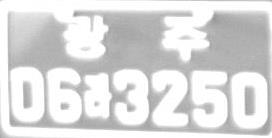0: (229, 70, 268, 130), (8, 65, 45, 123)
2: (150, 68, 189, 128)
3: (113, 68, 150, 126)
5: (189, 69, 229, 129)
6: (45, 66, 82, 124)
광주_D: (62, 14, 209, 62)
라: (82, 71, 113, 119)
